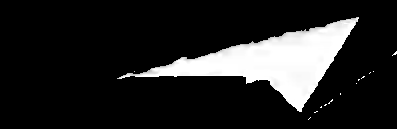Plane: (109, 8, 376, 117)
